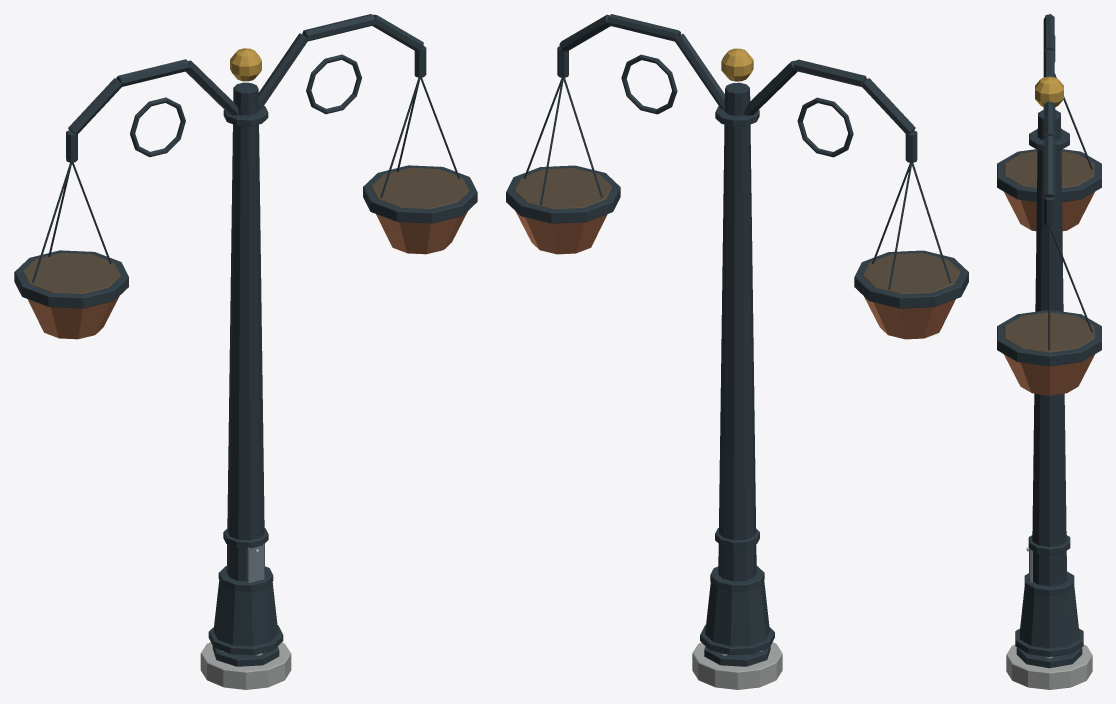
File: b18_ornamental_hanging_basket_standard.glb
3 renders of one model, left to right at view 1: azimuth 30°, elevation 25°; view 2: azimuth 150°, elevation 25°; view 3: azimuth 270°, elevation 25°, orthographic. The views are drawn at different scales.
Parts seen in each view (by area): view 1: b18_ornamental_hanging_basket_standard; view 2: b18_ornamental_hanging_basket_standard; view 3: b18_ornamental_hanging_basket_standard.
Part boxes in pixels (bbox=[...]): b18_ornamental_hanging_basket_standard: bbox=[14, 14, 477, 689]; b18_ornamental_hanging_basket_standard: bbox=[506, 14, 968, 689]; b18_ornamental_hanging_basket_standard: bbox=[997, 14, 1101, 689].
Size of the model in its own units: 2.29 by 3.06 by 0.485.
